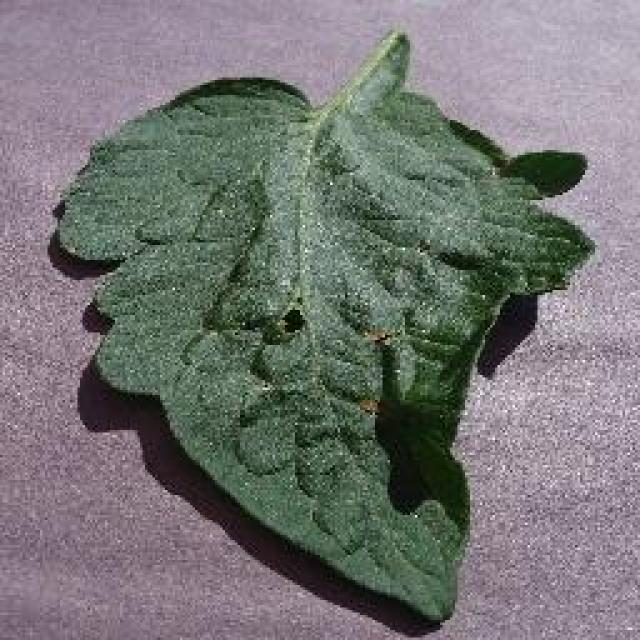Tomato___Target_Spot: (55, 32, 592, 620)
